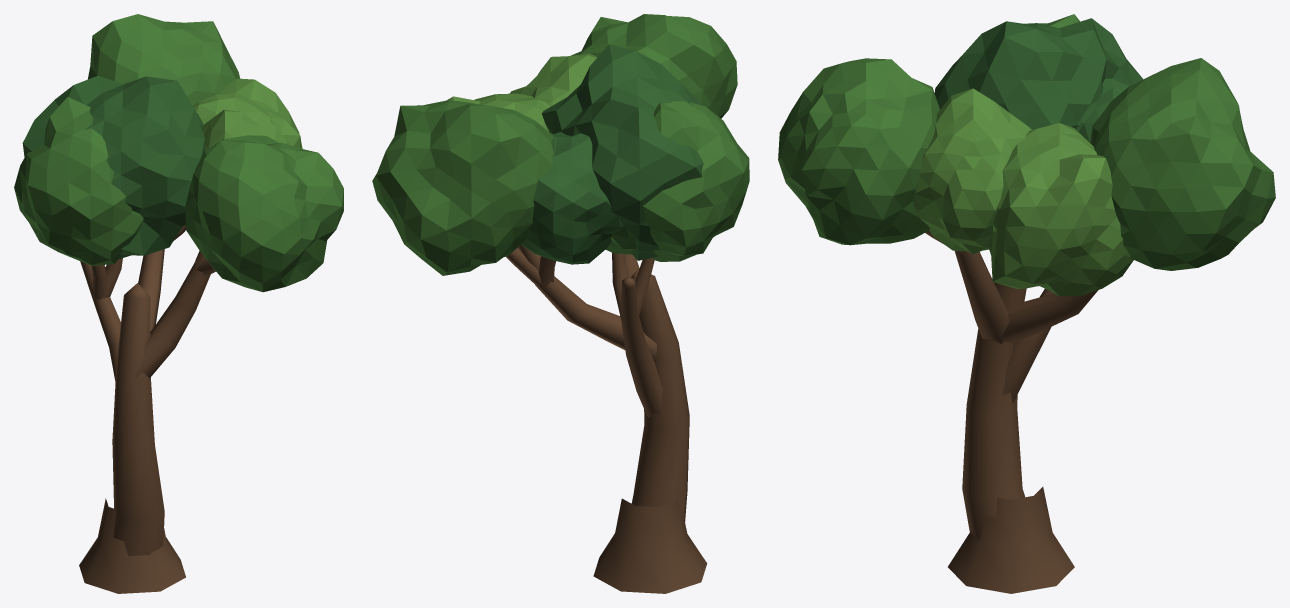
File: tree_oak.glb
3 renders of one model, left to right at view 1: azimuth 30°, elevation 25°; view 2: azimuth 150°, elevation 25°; view 3: azimuth 270°, elevation 25°, orthographic. The views are drawn at different scales.
Visible parts, largest first — view 1: tree; view 2: tree; view 3: tree.
Part boxes in pixels (x1,y1,x2,y2): tree: [14, 14, 343, 593]; tree: [372, 14, 749, 593]; tree: [778, 14, 1275, 593].
Size of the model in its own units: 3.51 by 5.84 by 4.69.
